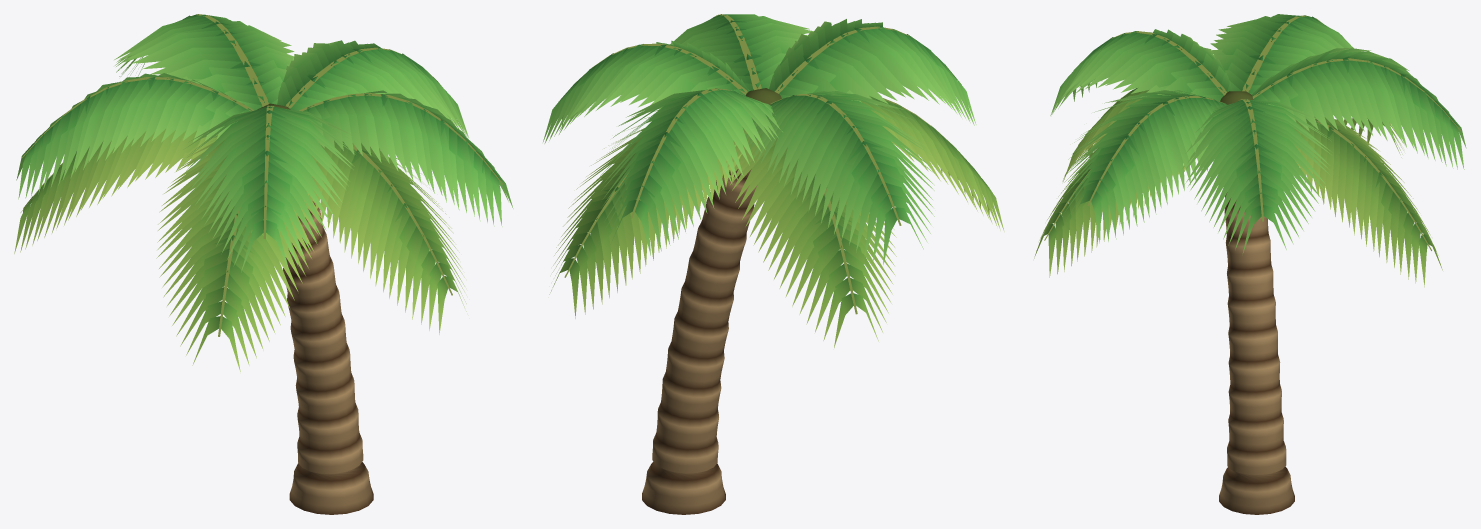
File: palm_ac_b.glb
3 renders of one model, left to right at view 1: azimuth 30°, elevation 25°; view 2: azimuth 150°, elevation 25°; view 3: azimuth 270°, elevation 25°, orthographic. The views are drawn at different scales.
Visible parts, largest first — view 1: palm_ac_b; view 2: palm_ac_b; view 3: palm_ac_b.
Boxes of the visible parts, x1,y1,x2,y2 form: palm_ac_b: [14, 14, 513, 514]; palm_ac_b: [543, 14, 1004, 514]; palm_ac_b: [1034, 14, 1466, 514].
Bounding box in the file's own units: 3.54 × 3.79 × 3.61.
